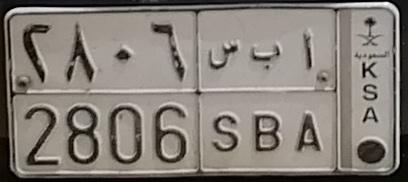0: (107, 47, 145, 165)
2: (21, 21, 62, 167)
6: (149, 20, 189, 164)
8: (64, 21, 102, 165)
A: (293, 29, 323, 153)
B: (249, 41, 284, 153)
S: (208, 38, 241, 155)
